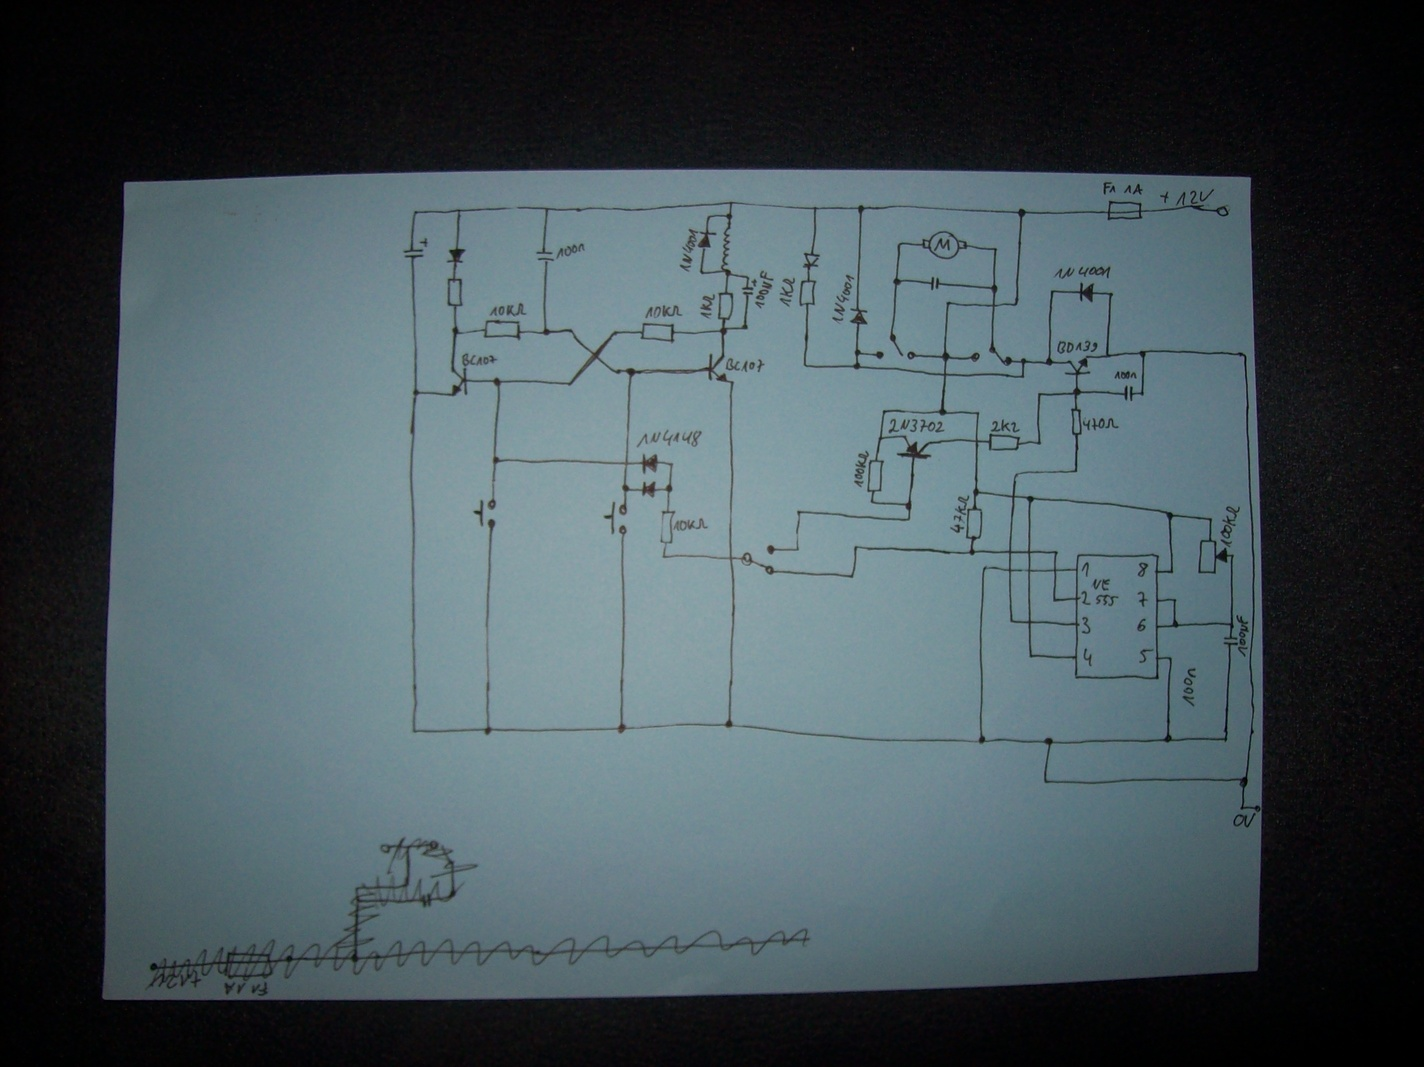capacitor.polarized: (401, 236, 429, 260), (741, 279, 758, 297)
capacitor.unpolarized: (536, 249, 556, 265), (1123, 383, 1134, 403), (929, 275, 941, 293), (1221, 635, 1239, 648)
crossover: (589, 349, 602, 363), (1024, 547, 1035, 557), (621, 458, 632, 468), (1050, 565, 1060, 575), (726, 554, 737, 563), (1009, 492, 1018, 502), (1005, 547, 1015, 556), (1005, 565, 1014, 575), (1025, 618, 1035, 627), (941, 370, 951, 379), (972, 437, 981, 446), (990, 301, 998, 310), (1024, 566, 1033, 574)
diode: (848, 306, 871, 327), (641, 452, 660, 476), (696, 230, 717, 250), (1078, 281, 1096, 304), (801, 250, 821, 269), (446, 247, 467, 265), (641, 479, 657, 500)
fuse: (1105, 200, 1145, 222)
inductor: (720, 223, 733, 268)
integrated_cricuit.ne555: (1072, 551, 1162, 681)
junction: (1237, 774, 1250, 789), (615, 722, 629, 735), (491, 375, 504, 388), (976, 734, 988, 746), (891, 276, 903, 288), (490, 454, 502, 466), (1042, 735, 1055, 746), (624, 367, 637, 378), (620, 482, 631, 495), (1024, 494, 1036, 505), (988, 282, 1000, 294), (903, 500, 915, 511), (1239, 350, 1251, 361), (1016, 207, 1029, 219), (1163, 733, 1174, 745), (1165, 509, 1175, 522), (719, 268, 733, 278), (409, 387, 422, 397), (1071, 387, 1082, 398), (937, 406, 948, 417), (449, 325, 460, 336), (855, 204, 866, 215), (940, 351, 951, 362), (663, 483, 674, 494), (1137, 349, 1150, 359), (611, 367, 623, 377), (723, 720, 734, 730), (1050, 595, 1061, 605), (1171, 619, 1181, 630), (541, 326, 551, 337), (718, 326, 728, 337), (851, 361, 862, 372), (800, 360, 810, 371), (1044, 356, 1055, 367), (875, 433, 886, 443), (1040, 777, 1052, 786), (453, 207, 465, 216), (483, 726, 493, 736), (971, 488, 981, 498), (739, 322, 750, 332), (943, 299, 953, 309), (895, 240, 905, 250), (990, 245, 1000, 256), (904, 514, 914, 525), (1011, 297, 1020, 308), (1051, 548, 1061, 557), (1007, 616, 1017, 625), (1171, 595, 1180, 605), (1071, 466, 1081, 475), (968, 547, 977, 557), (611, 328, 620, 338), (565, 378, 574, 388), (853, 347, 862, 358), (1018, 358, 1029, 367), (1106, 290, 1115, 300), (794, 508, 804, 517), (792, 544, 802, 553), (851, 542, 860, 553), (847, 570, 856, 581), (666, 460, 676, 468), (541, 205, 551, 214), (1221, 735, 1231, 744), (879, 407, 888, 417), (981, 563, 990, 572), (1012, 470, 1021, 479), (1034, 438, 1043, 447), (1018, 372, 1027, 381), (972, 409, 981, 418), (1138, 389, 1147, 398), (566, 326, 575, 335), (705, 213, 714, 222), (811, 204, 820, 213), (1104, 351, 1113, 360), (660, 553, 669, 562), (867, 497, 876, 505), (411, 208, 420, 217), (1166, 655, 1175, 664), (724, 212, 734, 220), (410, 727, 418, 736), (1027, 652, 1036, 660), (1167, 567, 1176, 575), (743, 273, 752, 281), (727, 200, 735, 208), (1035, 391, 1045, 398), (1207, 516, 1214, 523), (698, 269, 706, 277), (1228, 620, 1236, 628), (1237, 805, 1246, 811), (1048, 288, 1057, 295)
motor: (921, 229, 969, 261)
resistor: (639, 321, 677, 345), (481, 319, 523, 341), (865, 458, 886, 494), (965, 505, 984, 541), (987, 432, 1021, 452), (658, 509, 676, 545), (716, 290, 735, 322), (446, 277, 464, 309), (798, 278, 817, 307), (1070, 407, 1083, 437)
resistor.adjustable: (1197, 538, 1237, 576)
switch: (874, 331, 920, 362), (739, 542, 778, 578), (967, 343, 1015, 369), (603, 500, 629, 537), (472, 498, 497, 529)
terminal: (1214, 205, 1232, 219), (1251, 802, 1262, 813)
text: (634, 428, 702, 449), (831, 273, 855, 323), (1218, 504, 1242, 548), (1158, 187, 1214, 206), (886, 417, 944, 434), (1052, 265, 1113, 280), (1090, 577, 1119, 607), (678, 228, 697, 273), (949, 494, 970, 535), (754, 270, 774, 309), (1180, 666, 1198, 708), (724, 356, 766, 374), (851, 449, 869, 489), (1235, 614, 1250, 658), (1055, 338, 1099, 354), (644, 303, 683, 319), (488, 301, 528, 318), (555, 241, 586, 261), (672, 517, 709, 532), (1082, 416, 1120, 430), (460, 352, 497, 367), (779, 276, 795, 307), (699, 293, 716, 321), (1231, 811, 1256, 829), (990, 418, 1020, 433), (1123, 182, 1144, 197), (1137, 647, 1154, 665), (1113, 370, 1138, 381), (1101, 180, 1118, 197), (1134, 562, 1150, 579), (1135, 590, 1150, 609), (1081, 646, 1093, 667), (1080, 615, 1092, 635), (1135, 618, 1148, 634), (1080, 560, 1091, 578), (1080, 590, 1091, 606)
transistor: (707, 351, 736, 386), (896, 435, 934, 460), (449, 367, 471, 398), (1064, 354, 1092, 377)
